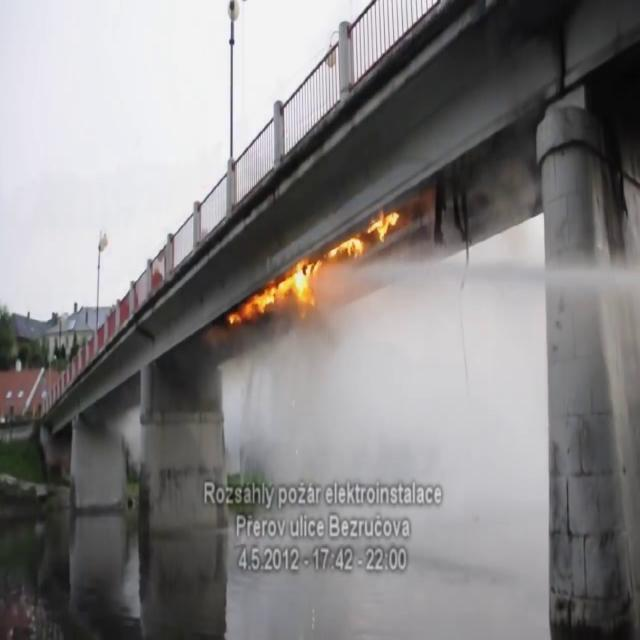Fire: (238, 256, 320, 324), (336, 205, 403, 261)
